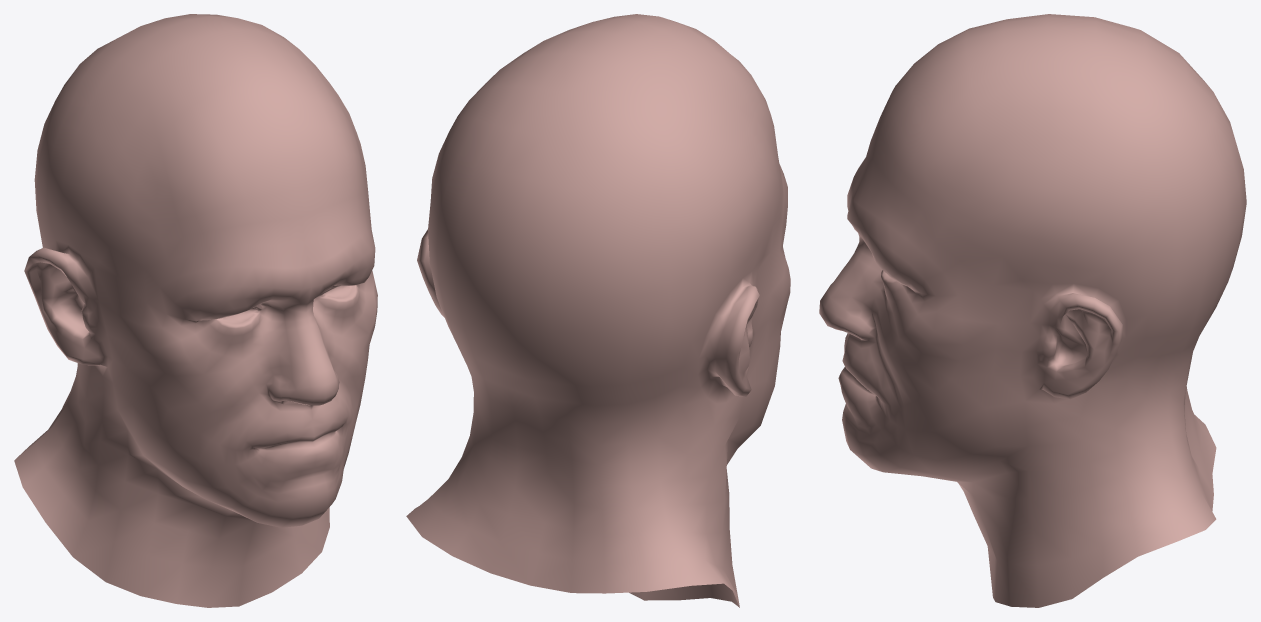
Rendered from cabeza.fbx.
3 renders of one model, left to right at view 1: azimuth 30°, elevation 25°; view 2: azimuth 150°, elevation 25°; view 3: azimuth 270°, elevation 25°, orthographic. The views are drawn at different scales.
Parts seen in each view (by area): view 1: cabeza; view 2: cabeza; view 3: cabeza.
Part boxes in pixels (x1=…): cabeza: x1=14, y1=14, x2=377, y2=607; cabeza: x1=406, y1=14, x2=790, y2=607; cabeza: x1=819, y1=14, x2=1246, y2=607.
Bounding box in the file's own units: 12.03 × 20.65 × 14.25.
